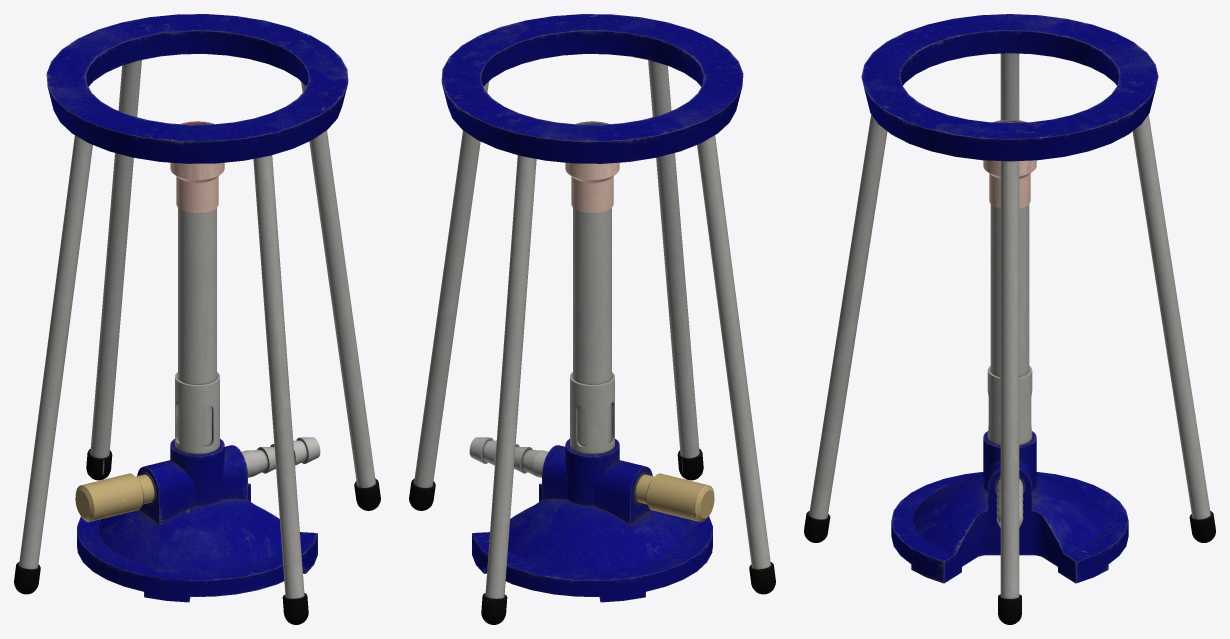
File: bunsen_burner.gltf
3 views of the same model, side by side, from view 1: azimuth 30°, elevation 25°; view 2: azimuth 150°, elevation 25°; view 3: azimuth 270°, elevation 25° (orthographic).
Parts seen in each view (by area): view 1: burner_stand, bunsen_burner; view 2: burner_stand, bunsen_burner; view 3: burner_stand, bunsen_burner.
Boxes of the visible parts, box(x1,y1,x2,y2) form: burner_stand: box(14, 14, 380, 624); bunsen_burner: box(75, 121, 320, 602); burner_stand: box(409, 14, 775, 624); bunsen_burner: box(469, 121, 714, 602); burner_stand: box(804, 14, 1215, 624); bunsen_burner: box(891, 119, 1128, 583).
Size of the model in its own units: 0.1389 by 0.1731 by 0.1389.
Materials: 1 (1 with a texture image).
